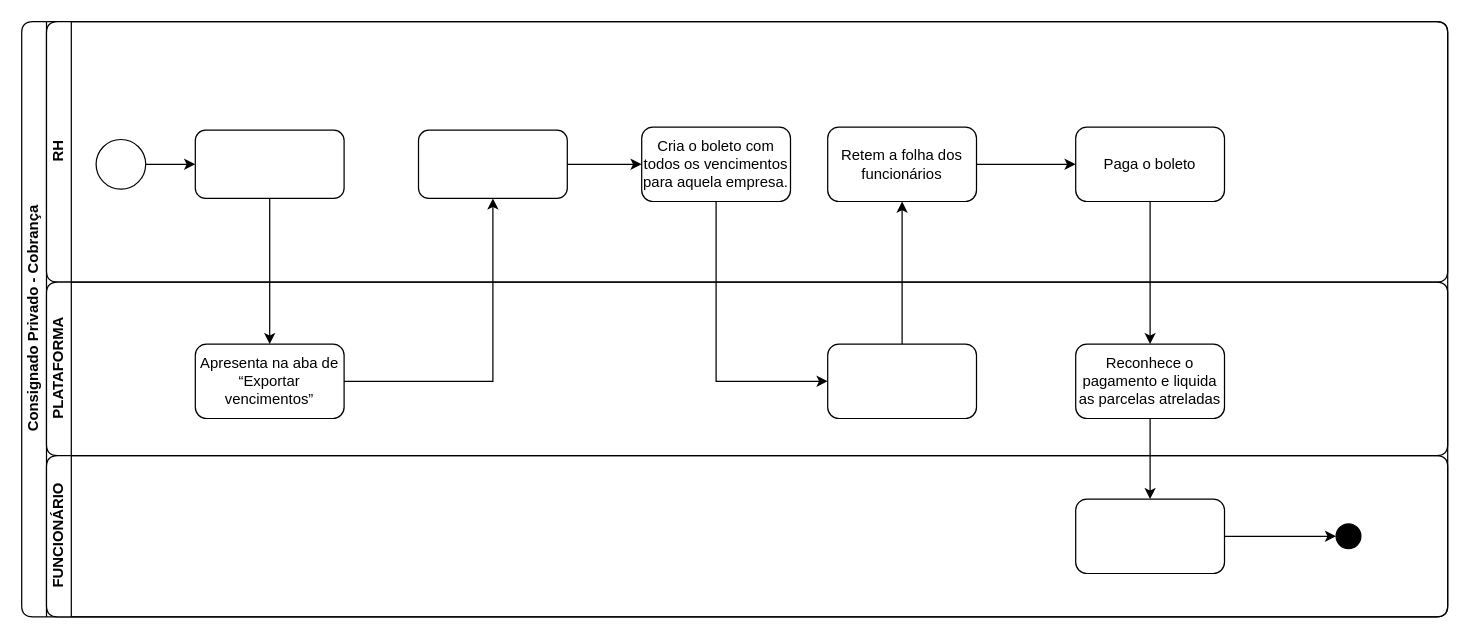
Some shapes in this 1469 by 639 pixel diagram are drawn without their labels. The shapes that lost their labels are listed below. From the top down, each one's box as (x1, y1, x2, y2) in pixels, then its label:
(95, 138, 146, 189): Boleto
(194, 129, 344, 198): Consulta na plataforma quais os descontos que devem se realizados.
(417, 129, 567, 198): Efetua o fechamento do mês
(826, 343, 976, 418): Gera um único boleto para toda a empresa.
(1074, 498, 1224, 574): Parcela liquidada (visível para o funcionário)
